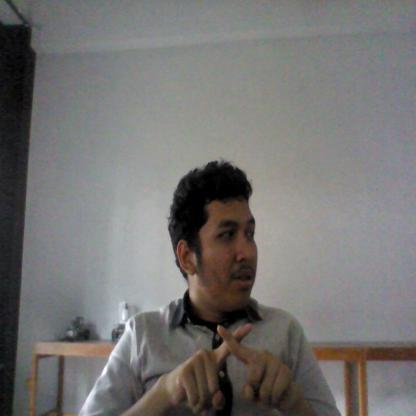X: (171, 320, 296, 416)
